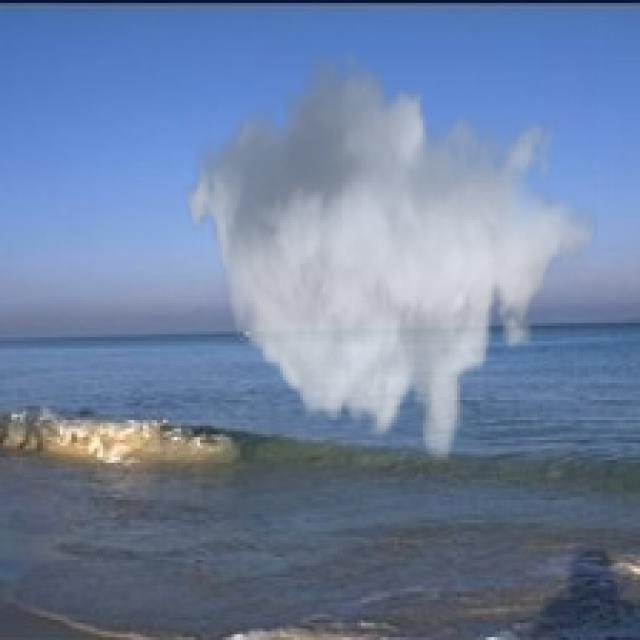smoke: (183, 43, 597, 468)
